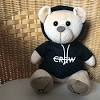teddy: (28, 2, 100, 99)
